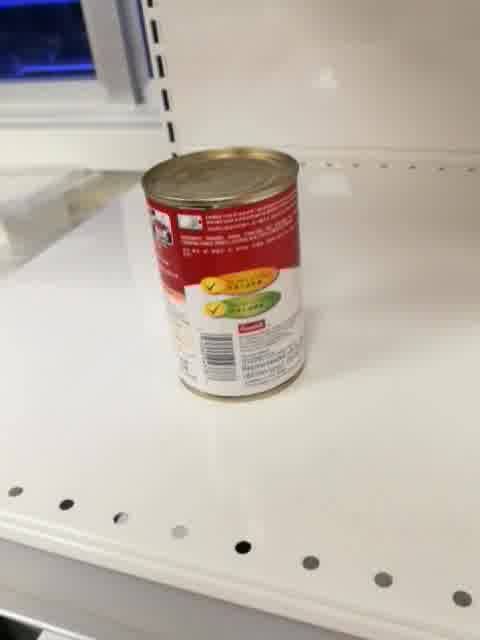tomatosoup: (140, 144, 309, 405)
